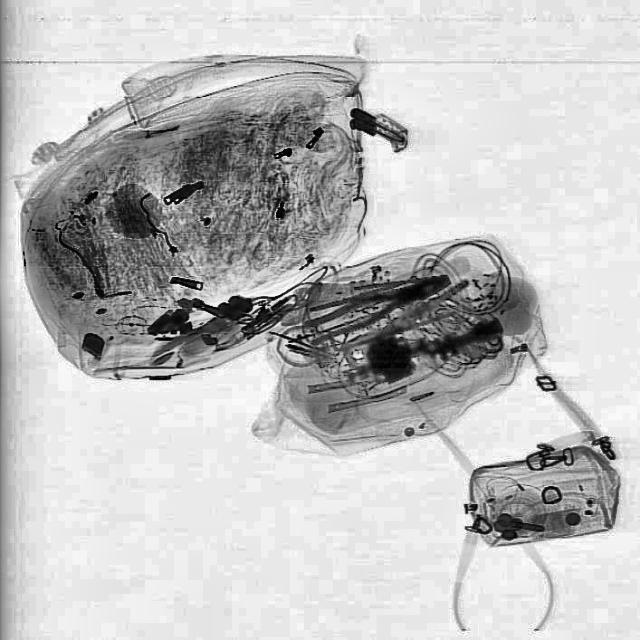Pliers: (302, 263, 454, 343)
